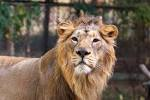lion: (1, 19, 121, 100)
